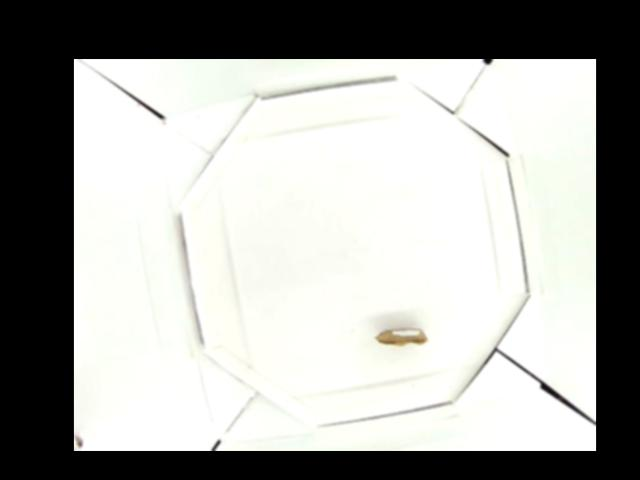China: (374, 326, 425, 348)
